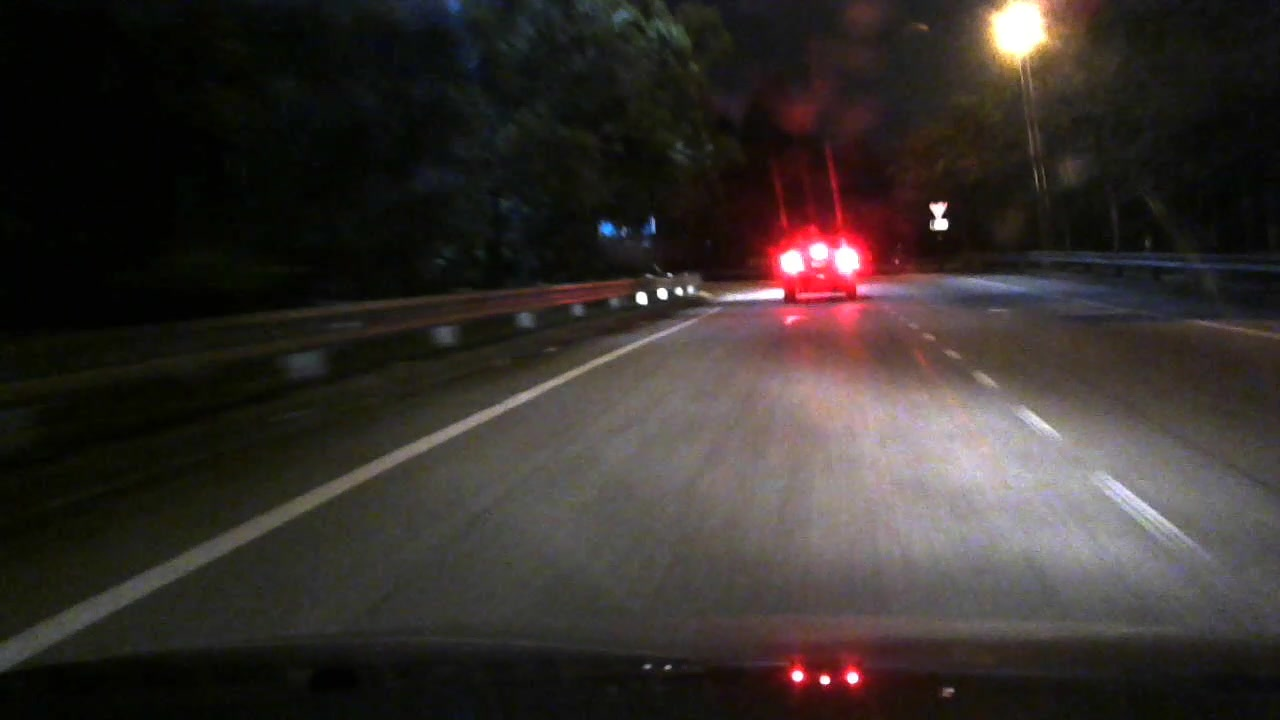Car: (759, 225, 870, 303)
